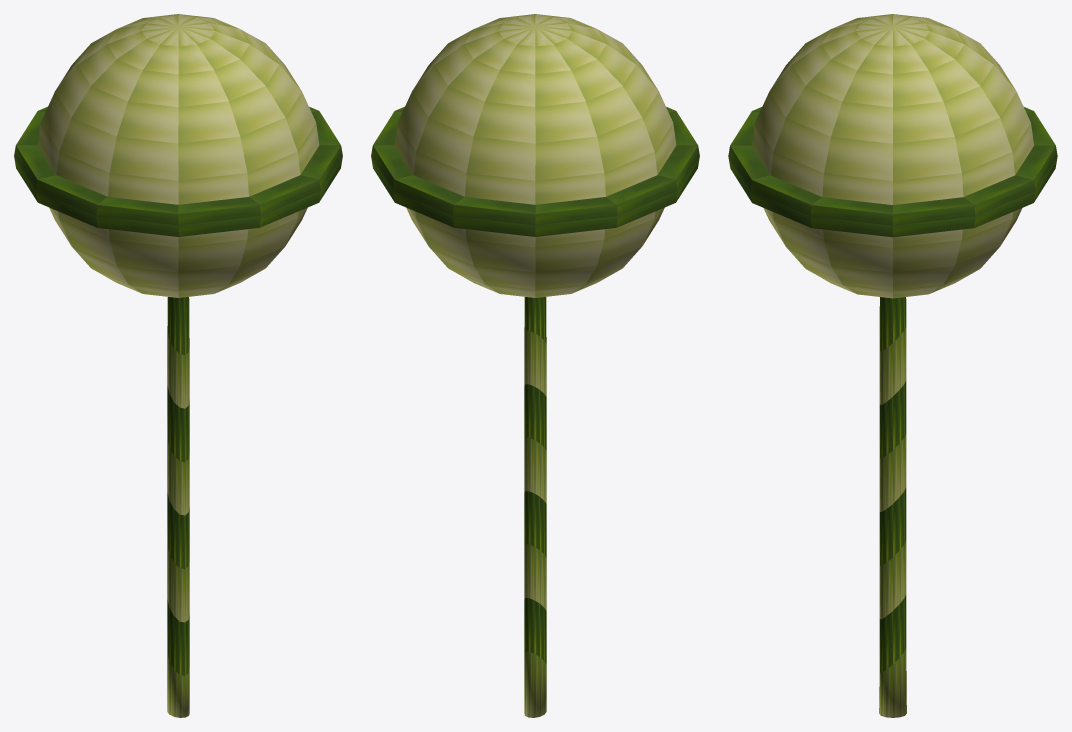
Rendered from OBS0110258.fbx.
3 renders of one model, left to right at view 1: azimuth 30°, elevation 25°; view 2: azimuth 150°, elevation 25°; view 3: azimuth 270°, elevation 25°, orthographic.
Parts seen in each view (by area): view 1: smOBS0110258; view 2: smOBS0110258; view 3: smOBS0110258.
Part boxes in pixels (left/top/right/bottom): smOBS0110258: left=14, top=14, right=342, bottom=717; smOBS0110258: left=371, top=14, right=699, bottom=717; smOBS0110258: left=728, top=14, right=1057, bottom=717.
Size of the model in its own units: 72.81 by 168 by 72.81.
